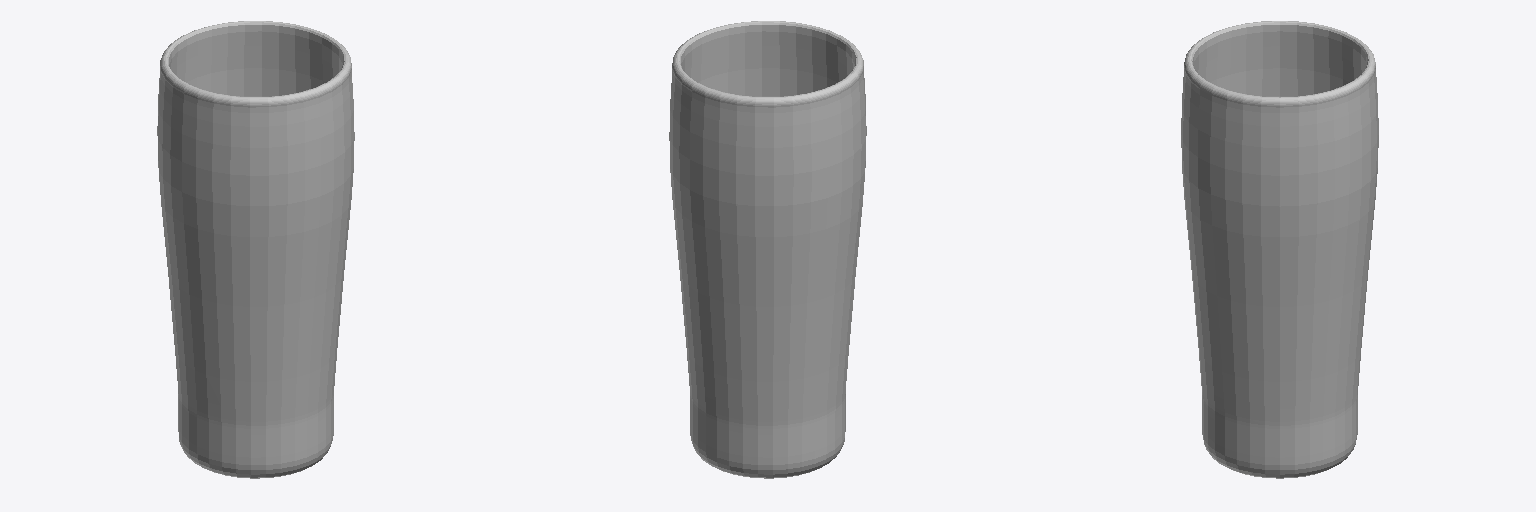
Rendered from glass.obj.
3 views of the same model, side by side, from view 1: azimuth 30°, elevation 25°; view 2: azimuth 150°, elevation 25°; view 3: azimuth 270°, elevation 25° (orthographic).
Visible parts, largest first — view 1: GlassEmpty001_CTRL_GlassEmpty001; view 2: GlassEmpty001_CTRL_GlassEmpty001; view 3: GlassEmpty001_CTRL_GlassEmpty001.
Part boxes in pixels (bbox=[...]): GlassEmpty001_CTRL_GlassEmpty001: bbox=[157, 21, 354, 478]; GlassEmpty001_CTRL_GlassEmpty001: bbox=[669, 21, 866, 478]; GlassEmpty001_CTRL_GlassEmpty001: bbox=[1181, 21, 1378, 478].
Size of the model in its own units: 0.0769 by 0.1688 by 0.0769.